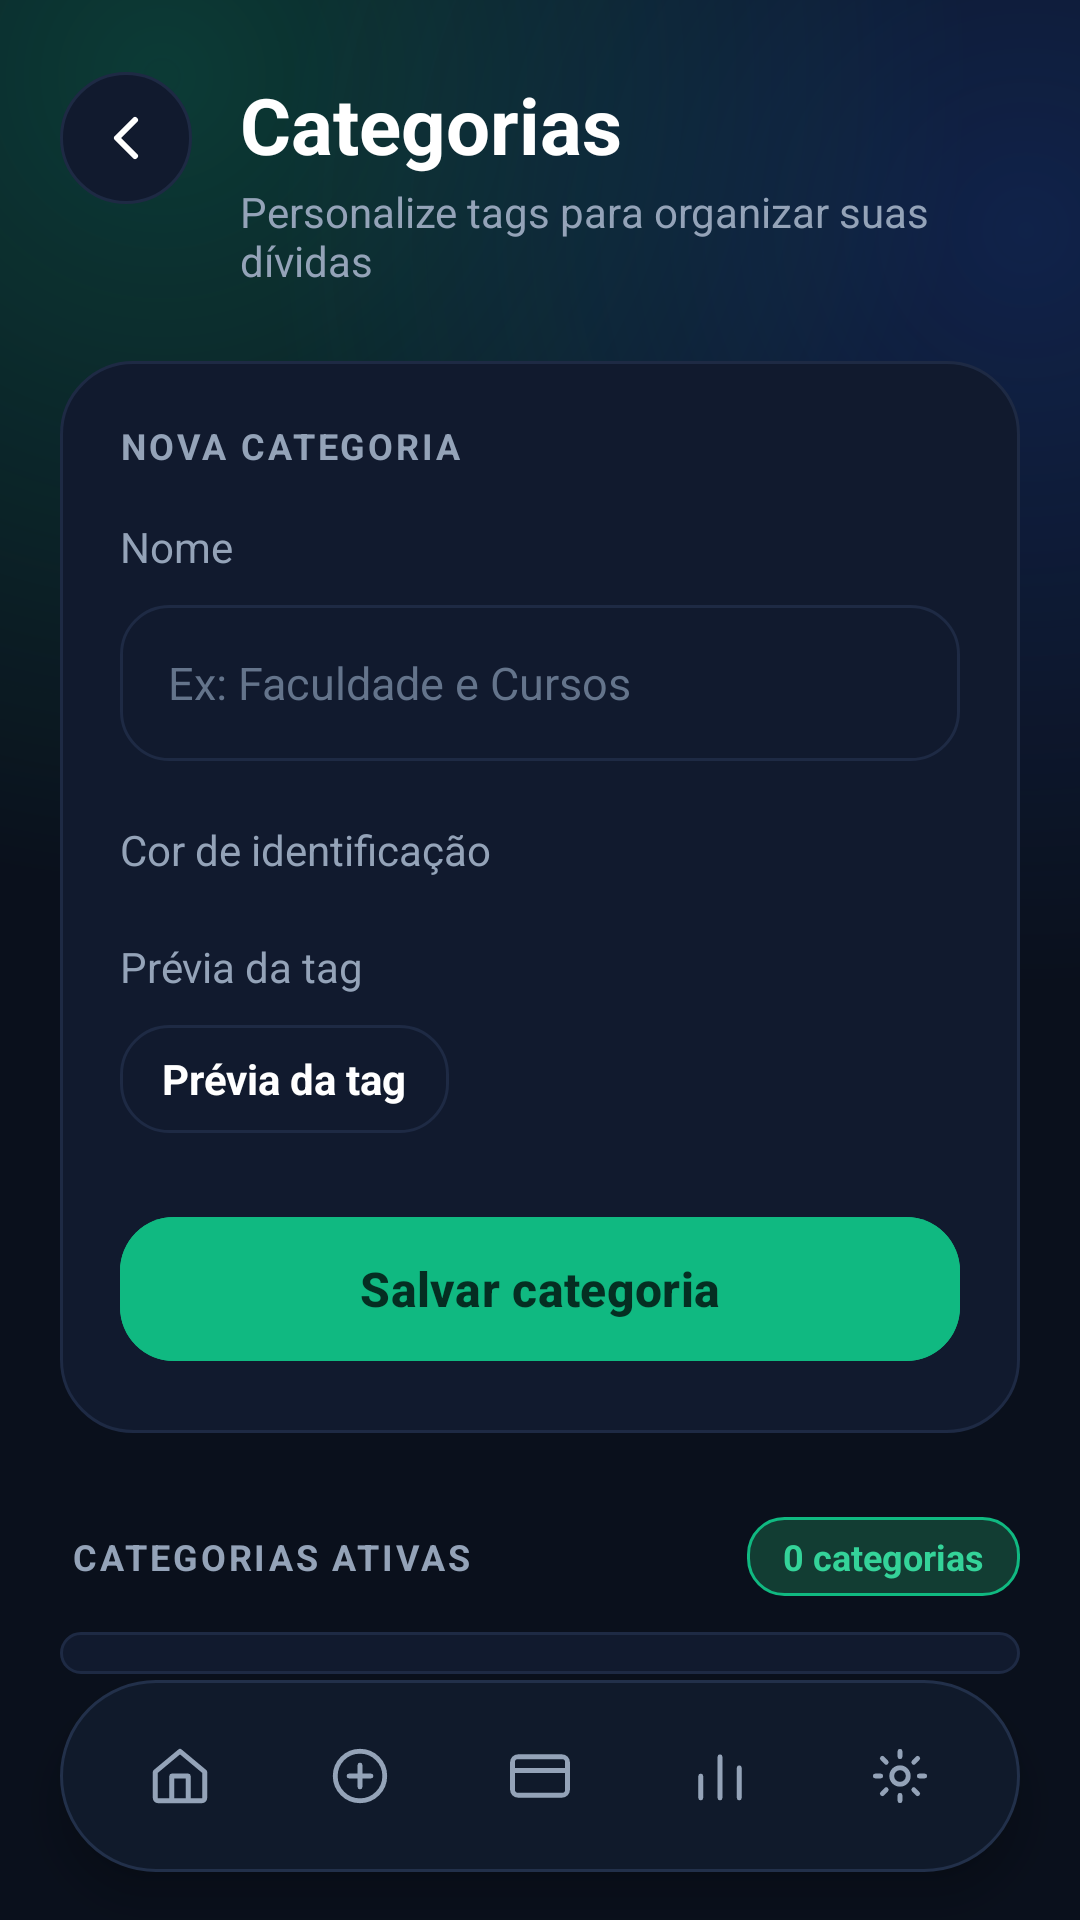

Point at icon controls on the screen. Image size 1080x1920, points as (x,y).
add: (360,1776)
card: (540,1776)
chart: (720,1777)
home: (180,1776)
Voltar: (126,138)
